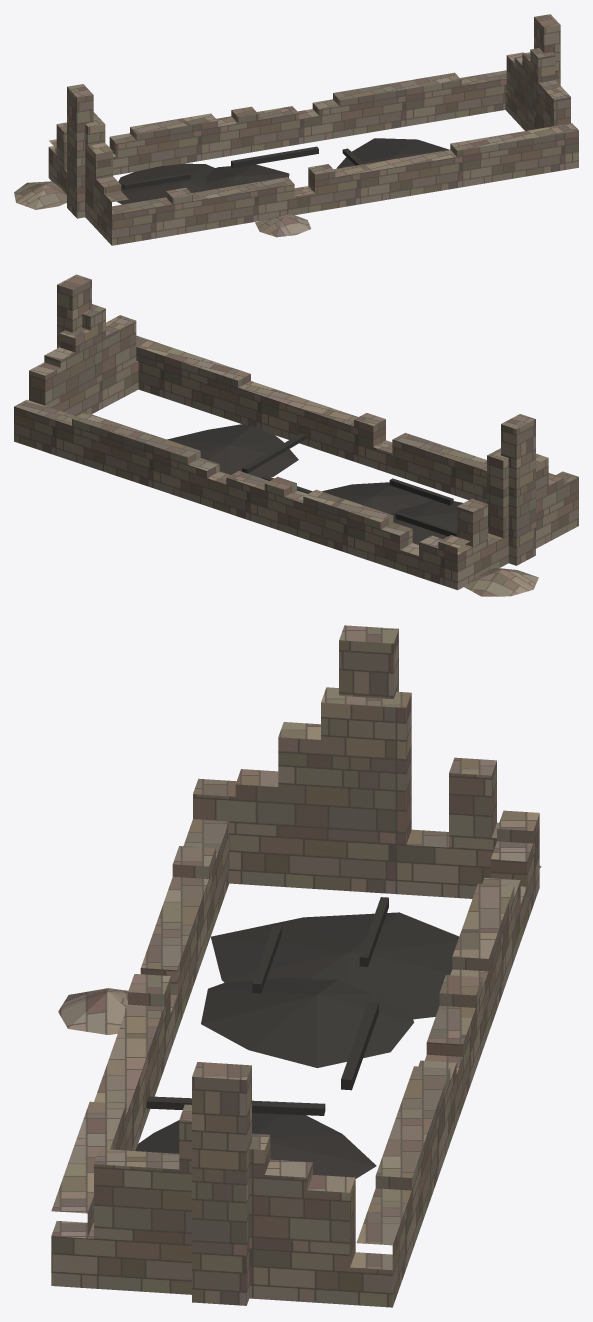
3 views of the same model, one above another, from view 1: azimuth 30°, elevation 25°; view 2: azimuth 150°, elevation 25°; view 3: azimuth 270°, elevation 25° (orthographic). The views are drawn at different scales.
Visible parts, largest first — view 1: b001077_ruin_wall, b001077_ruin_char; view 2: b001077_ruin_wall, b001077_ruin_char; view 3: b001077_ruin_wall, b001077_ruin_char.
Part boxes in pixels (x1,y1,x2,y2): b001077_ruin_wall: [14, 14, 578, 245]; b001077_ruin_char: [117, 138, 449, 204]; b001077_ruin_wall: [14, 274, 578, 596]; b001077_ruin_char: [167, 424, 462, 544]; b001077_ruin_wall: [51, 625, 541, 1307]; b001077_ruin_char: [135, 897, 458, 1178].
Bounding box in the file's own units: 20.19 × 4.86 × 8.92.
2 materials, 1 textured.
